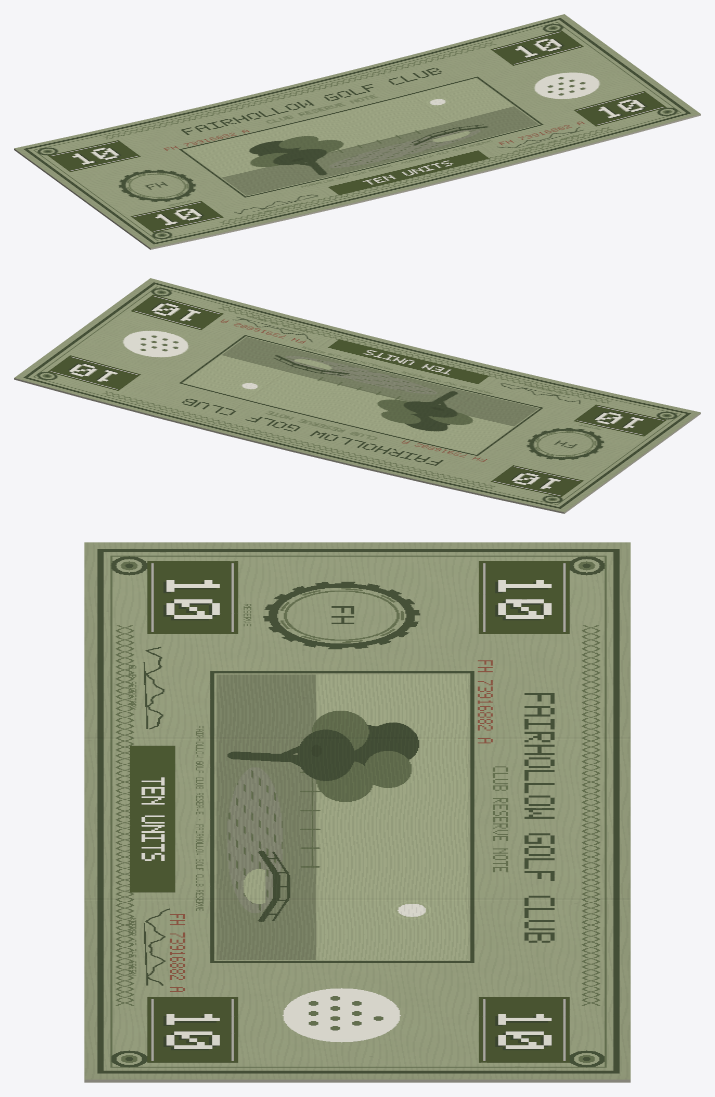
The model's file is cash_bill_10.glb.
The picture shows the model from 3 angles, top to bottom: view 1: azimuth 30°, elevation 25°; view 2: azimuth 150°, elevation 25°; view 3: azimuth 270°, elevation 25°; orthographic projection. The views are drawn at different scales.
Parts seen in each view (by area): view 1: Bill_Body; view 2: Bill_Body; view 3: Bill_Body.
Boxes of the visible parts, <box> form: Bill_Body: <box>14,14,700,249</box>; Bill_Body: <box>14,278,700,513</box>; Bill_Body: <box>84,542,630,1082</box>.
Size of the model in its own units: 0.142 by 0.0015 by 0.061.
Materials: 1 (1 with a texture image).
